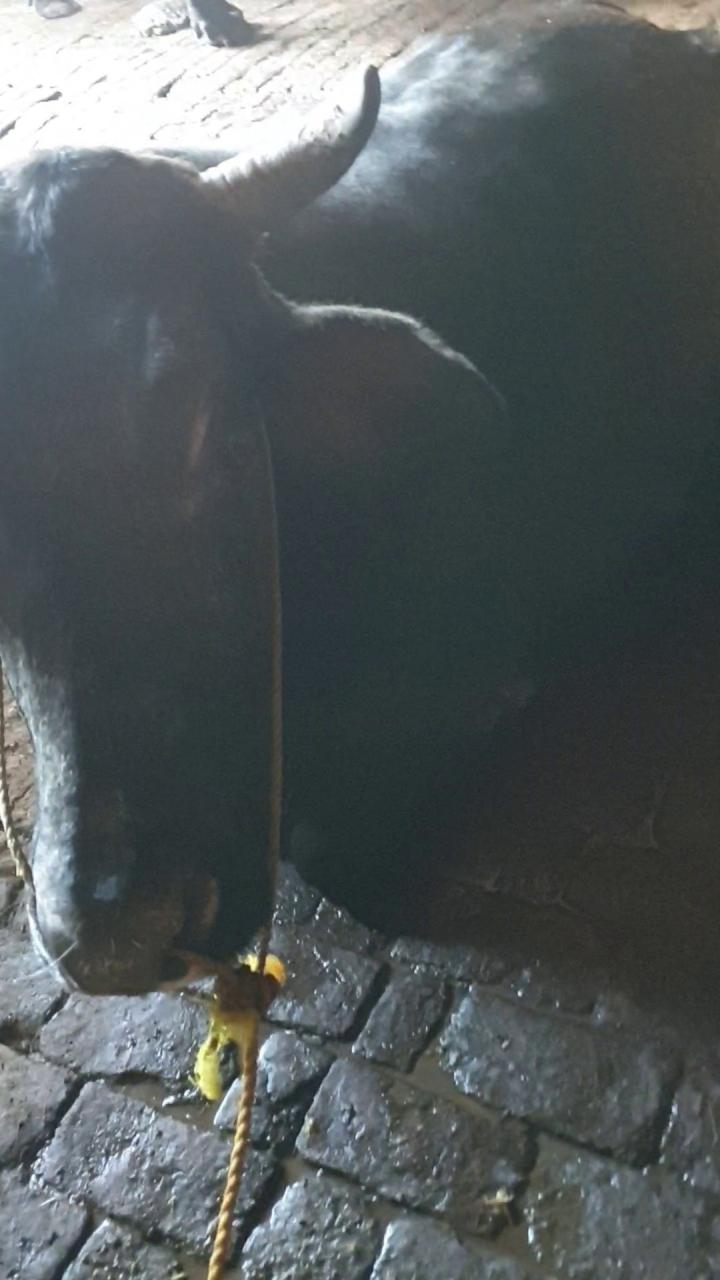cows: (0, 103, 245, 1047)
